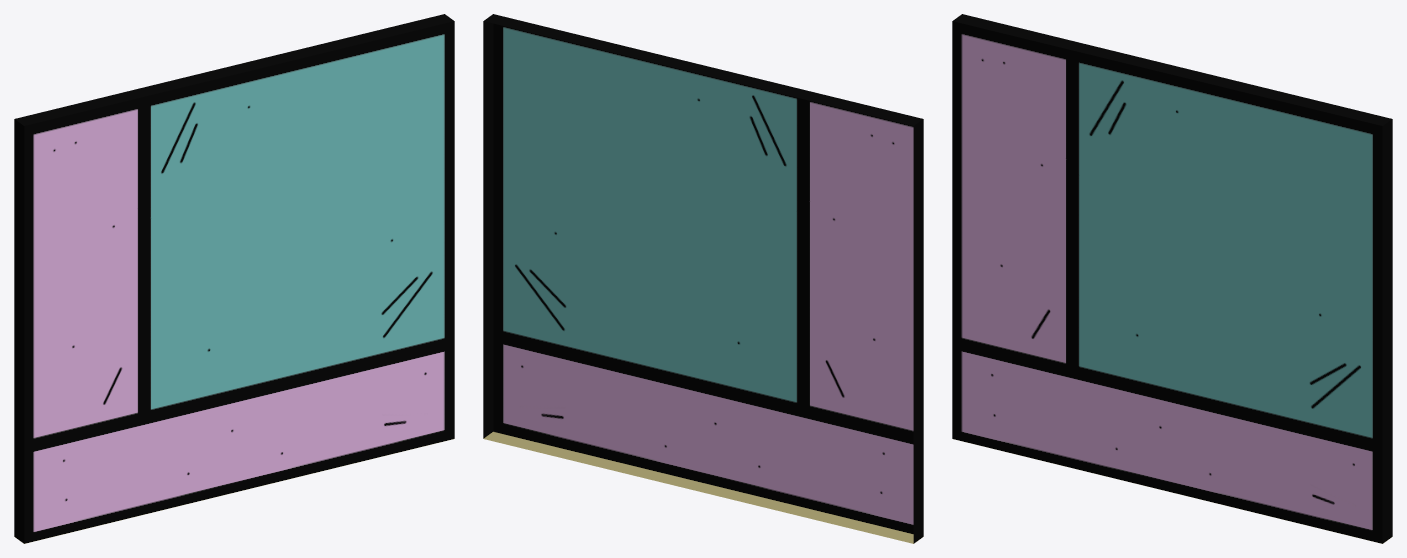
The model's file is Bot_Right_Shopfront_.fbx.
3 renders of one model, left to right at view 1: azimuth 30°, elevation 25°; view 2: azimuth 150°, elevation 25°; view 3: azimuth 330°, elevation 25°, orthographic.
Parts seen in each view (by area): view 1: Bot_Right_Shopfront_; view 2: Bot_Right_Shopfront_; view 3: Bot_Right_Shopfront_.
Boxes of the visible parts, x1,y1,x2,y2 form: Bot_Right_Shopfront_: [14, 14, 454, 543]; Bot_Right_Shopfront_: [483, 14, 923, 543]; Bot_Right_Shopfront_: [952, 14, 1392, 543].
Bounding box in the file's own units: 2.26 × 2.09 × 0.0886.
